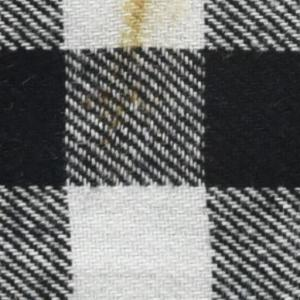Oil Stain: (78, 1, 189, 164)
